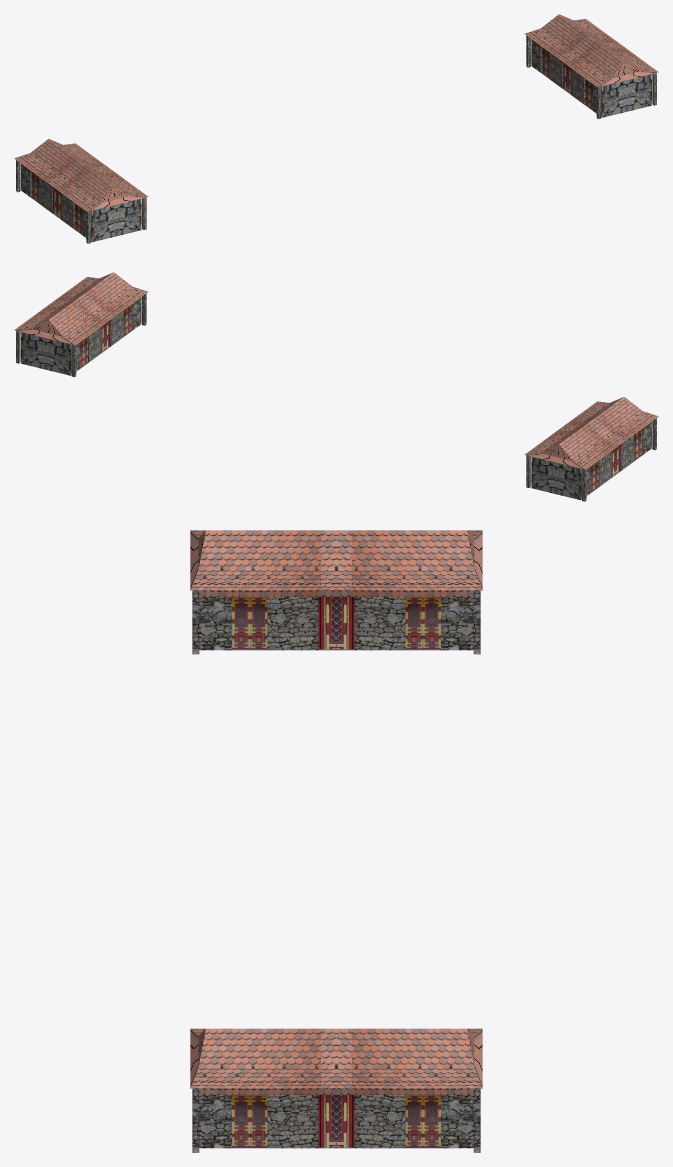
The model's file is casetas1templos.fbx.
The picture shows the model from 3 angles, top to bottom: view 1: azimuth 30°, elevation 25°; view 2: azimuth 150°, elevation 25°; view 3: azimuth 270°, elevation 25°; orthographic projection. The views are drawn at different scales.
Parts seen in each view (by area): view 1: CasetaCentral.003; view 2: CasetaCentral.003; view 3: CasetaCentral.003.
Boxes of the visible parts, bbox=[...] form: CasetaCentral.003: bbox=[14, 14, 658, 243]; CasetaCentral.003: bbox=[14, 272, 658, 501]; CasetaCentral.003: bbox=[190, 530, 482, 1152].
Size of the model in its own units: 1752 by 140 by 388.
3 materials, 3 textured.
